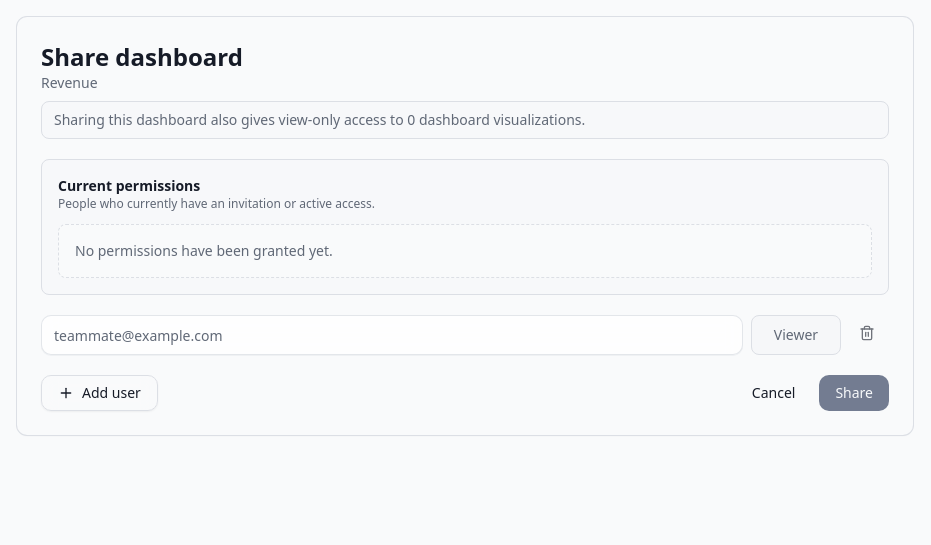
Test: ShareFormClient › marks invalid, self, and duplicate emails and blocks submit
Type "not-an-email" into the field named "Email 1" at (392, 335), box [41,315,743,355]
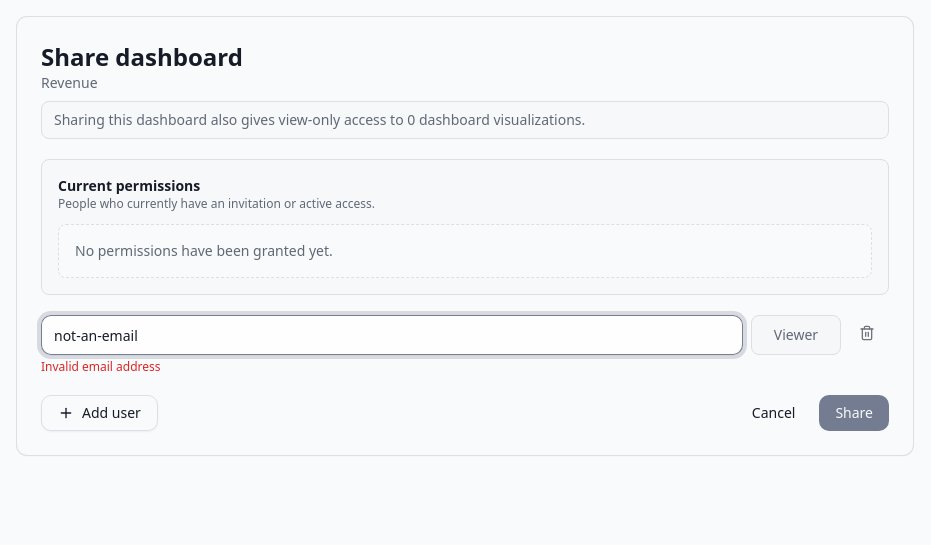
Expected: the button "Share" is disabled, [819,395,889,431]
Now the text "Invalid email address" is shown, box [41,358,160,375]
Replace the text in the field named "Email 1" with "OWNER@example.com" at (392, 335), box [41,315,743,355]
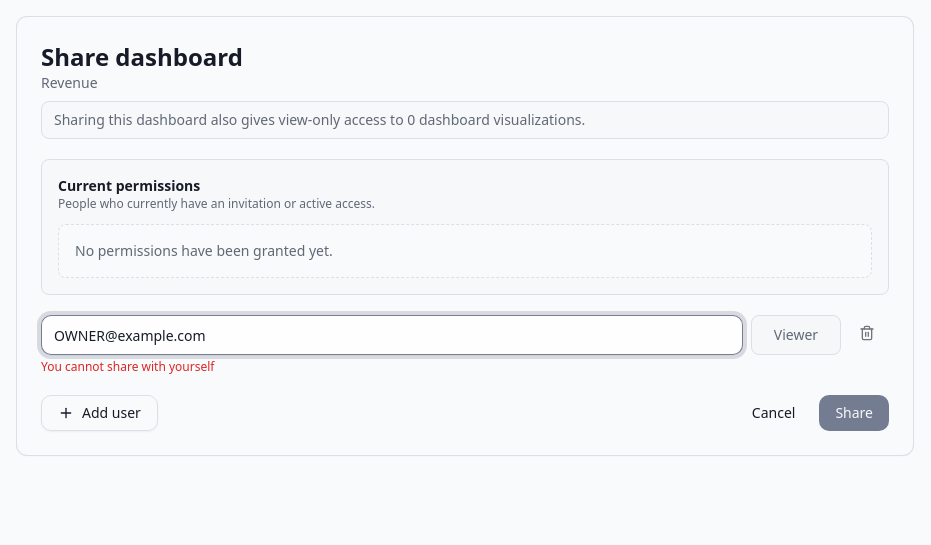
Expected: the button "Share" is disabled, [819,395,889,431]
Now the text "You cannot share with yourself" is shown, box [41,358,214,375]
Replace the text in the field named "Email 1" with "dupe@example.com" at (392, 335), box [41,315,743,355]
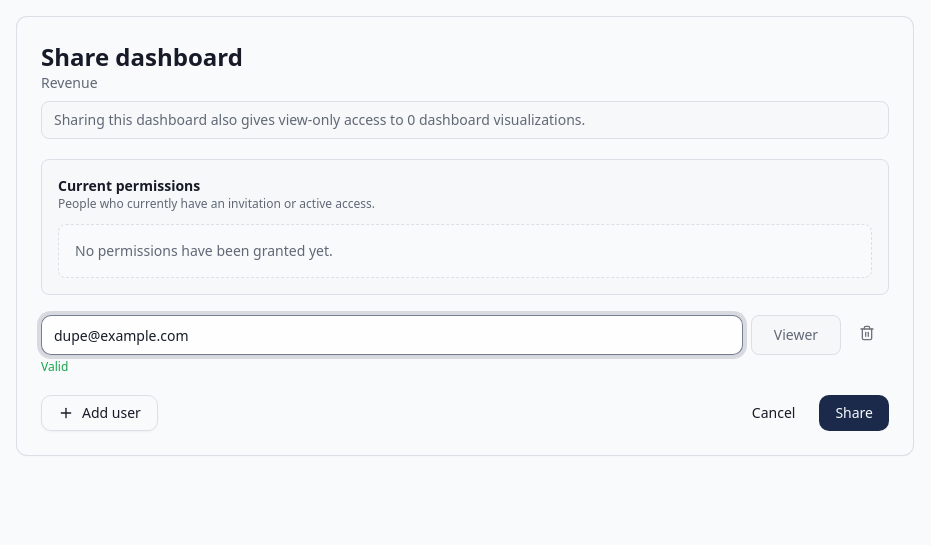
Click the button "Add user" at (99, 413), box [41,395,158,431]
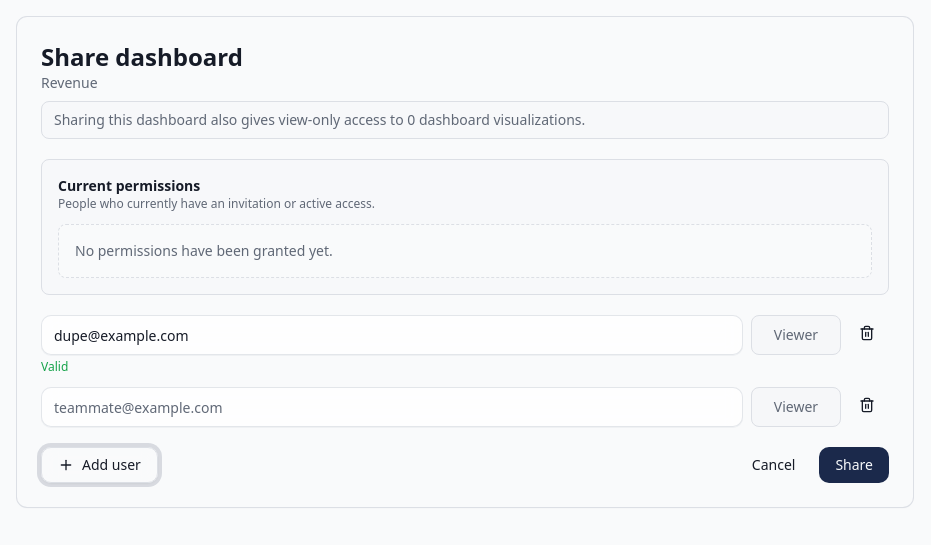
Type "DUPE@example.com" into the field named "Email 2" at (392, 407), box [41,387,743,427]
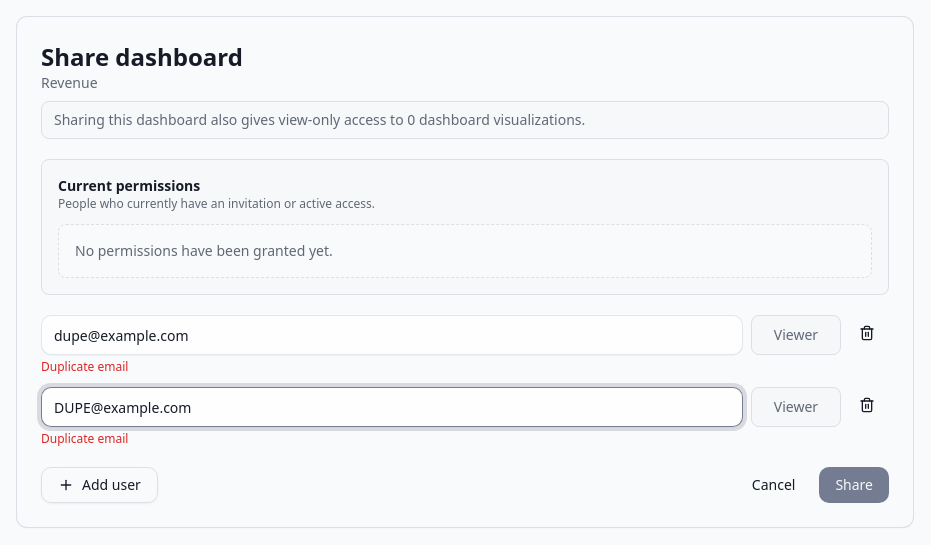
Now the text "Duplicate email" is shown 2 times, box [41,358,128,375]; [41,430,128,447]
Now the button "Share" is disabled, box [819,467,889,503]
